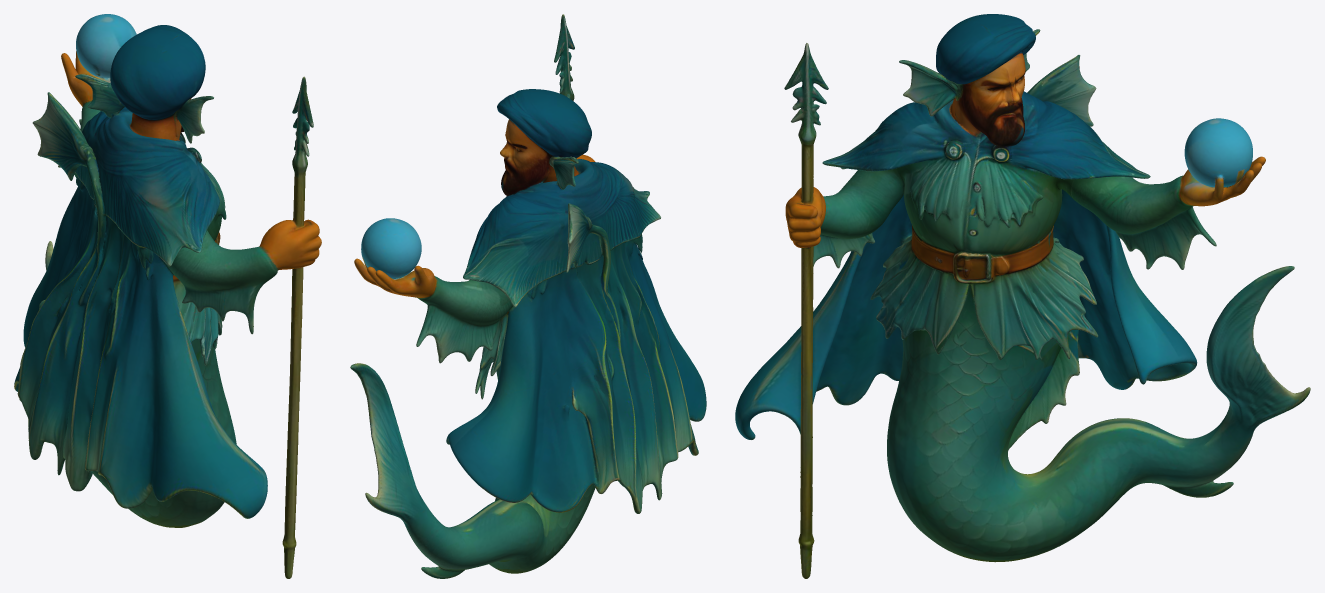
3 renders of one model, left to right at view 1: azimuth 30°, elevation 25°; view 2: azimuth 150°, elevation 25°; view 3: azimuth 270°, elevation 25°, orthographic. The views are drawn at different scales.
Visible parts, largest first — view 1: tripo_node_707eea80-e39f-4efd-8c82-eaf2e6dc5fb4; view 2: tripo_node_707eea80-e39f-4efd-8c82-eaf2e6dc5fb4; view 3: tripo_node_707eea80-e39f-4efd-8c82-eaf2e6dc5fb4.
Part boxes in pixels (<box>): tripo_node_707eea80-e39f-4efd-8c82-eaf2e6dc5fb4: <box>14,14,321,578</box>; tripo_node_707eea80-e39f-4efd-8c82-eaf2e6dc5fb4: <box>350,14,706,578</box>; tripo_node_707eea80-e39f-4efd-8c82-eaf2e6dc5fb4: <box>735,14,1310,578</box>.
Bounding box in the file's own units: 0.4161 × 1 × 0.958.
Materials: 1 (1 with a texture image).
